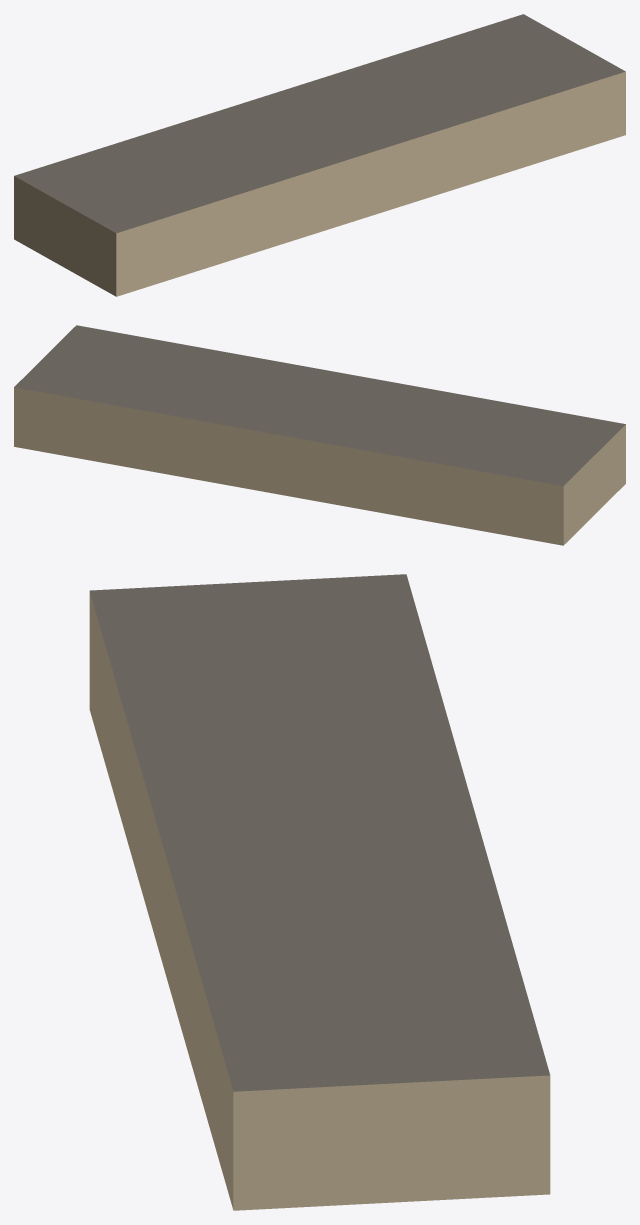
The picture shows the model from 3 angles, top to bottom: view 1: azimuth 30°, elevation 25°; view 2: azimuth 150°, elevation 25°; view 3: azimuth 270°, elevation 25°; orthographic projection. The views are drawn at different scales.
Parts seen in each view (by area): view 1: HP-w408450647; view 2: HP-w408450647; view 3: HP-w408450647.
Part boxes in pixels (left/top/right/bottom): HP-w408450647: left=14, top=14, right=625, bottom=296; HP-w408450647: left=14, top=325, right=625, bottom=545; HP-w408450647: left=89, top=574, right=550, bottom=1210.
Bounding box in the file's own units: 30.77 × 3.3 × 11.58.
